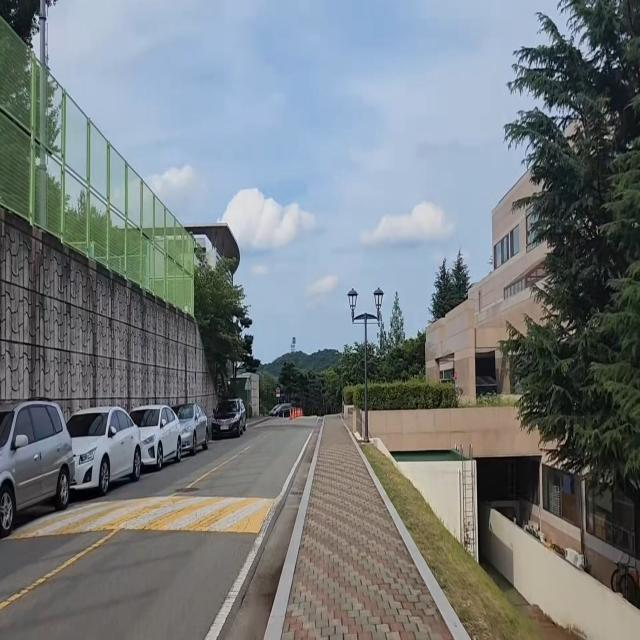road: (0, 419, 318, 640)
sidewalk: (268, 409, 472, 640)
